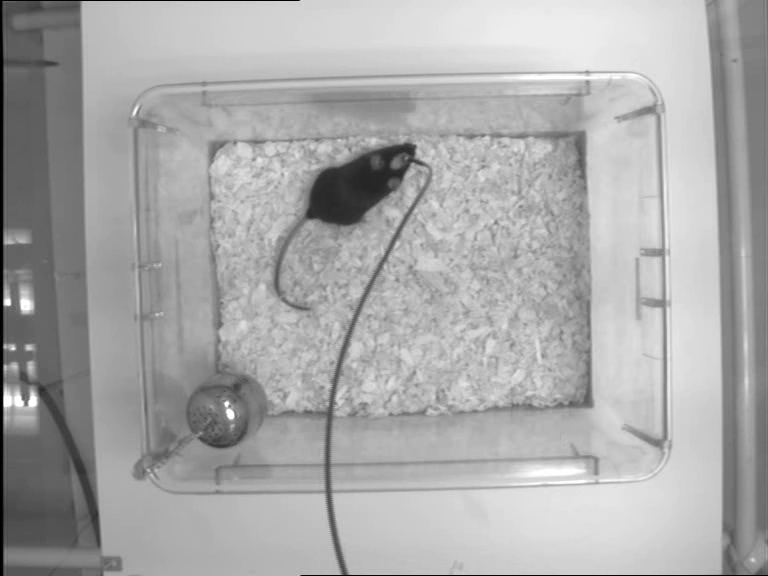mice: (272, 140, 420, 309)
